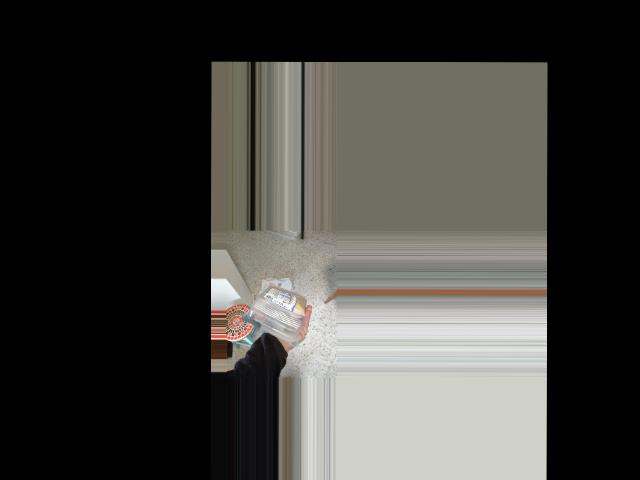cheese: (238, 272, 304, 347)
